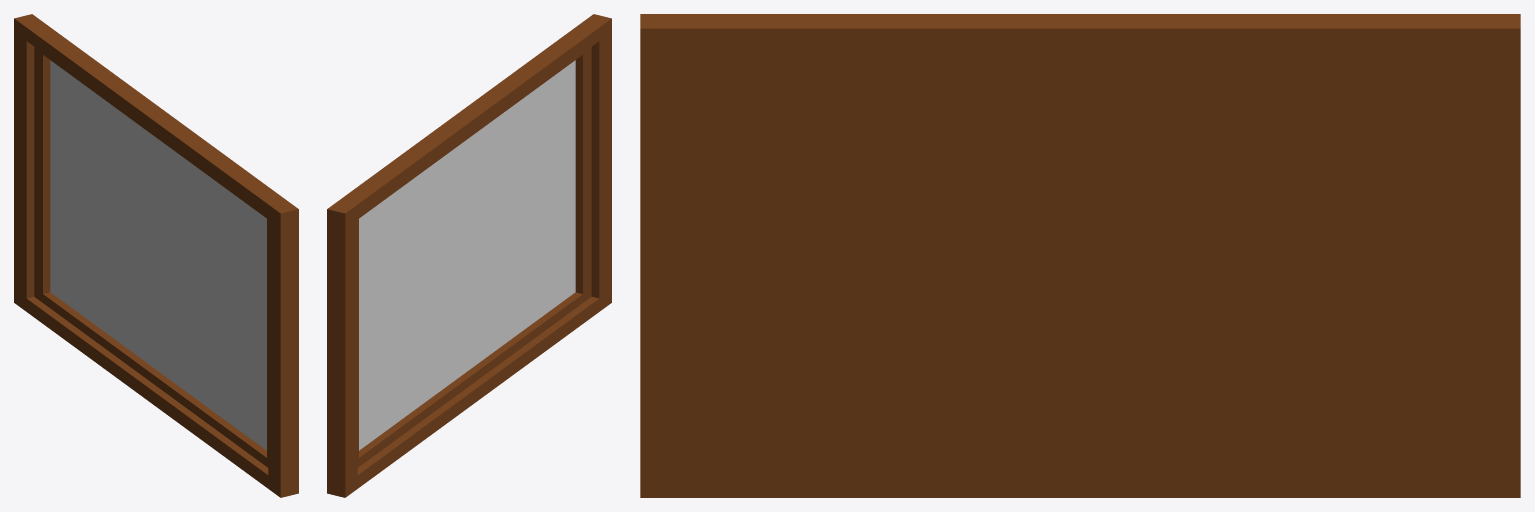
Rendered from picture_frame_1.fbx.
The picture shows the model from 3 angles, left to right: view 1: azimuth 30°, elevation 25°; view 2: azimuth 150°, elevation 25°; view 3: azimuth 270°, elevation 25°; orthographic projection. The views are drawn at different scales.
Parts seen in each view (by area): view 1: Cube.032; view 2: Cube.032; view 3: Cube.032.
Boxes of the visible parts, <box> form: Cube.032: <box>14,14,298,497</box>; Cube.032: <box>327,14,611,497</box>; Cube.032: <box>640,14,1520,497</box>.
Size of the model in its own units: 15.68 by 235 by 399.
